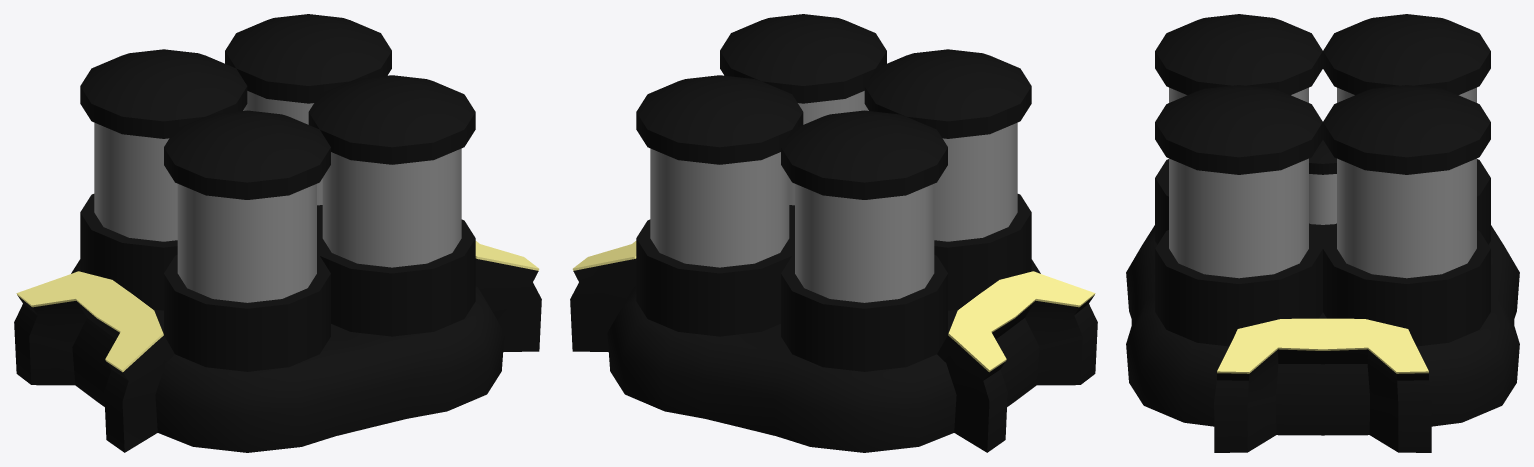
Rendered from Reactor_2.fbx.
The picture shows the model from 3 angles, left to right: view 1: azimuth 30°, elevation 25°; view 2: azimuth 150°, elevation 25°; view 3: azimuth 270°, elevation 25°; orthographic projection.
Parts seen in each view (by area): view 1: ReactorFin, ReactorSub4, ReactorSub1, ReactorSub3, ReactorSub2; view 2: ReactorFin, ReactorSub3, ReactorSub2, ReactorSub4, ReactorSub1; view 3: ReactorFin, ReactorSub1, ReactorSub2, ReactorSub3, ReactorSub4, ReactorSub5.
Boxes of the visible parts, <box> form: ReactorFin: <box>14,194,541,452</box>; ReactorSub4: <box>164,110,330,302</box>; ReactorSub1: <box>308,75,475,267</box>; ReactorSub3: <box>80,49,247,241</box>; ReactorSub2: <box>225,14,391,205</box>; ReactorFin: <box>570,194,1097,452</box>; ReactorSub3: <box>781,110,947,302</box>; ReactorSub2: <box>636,75,803,267</box>; ReactorSub4: <box>864,49,1031,241</box>; ReactorSub1: <box>720,14,886,205</box>; ReactorFin: <box>1126,159,1519,452</box>; ReactorSub1: <box>1155,85,1322,278</box>; ReactorSub2: <box>1323,85,1490,278</box>; ReactorSub3: <box>1323,14,1490,102</box>; ReactorSub4: <box>1155,14,1322,102</box>; ReactorSub5: <box>1309,140,1336,224</box>.
Size of the model in its own units: 138 by 88.73 by 111.
